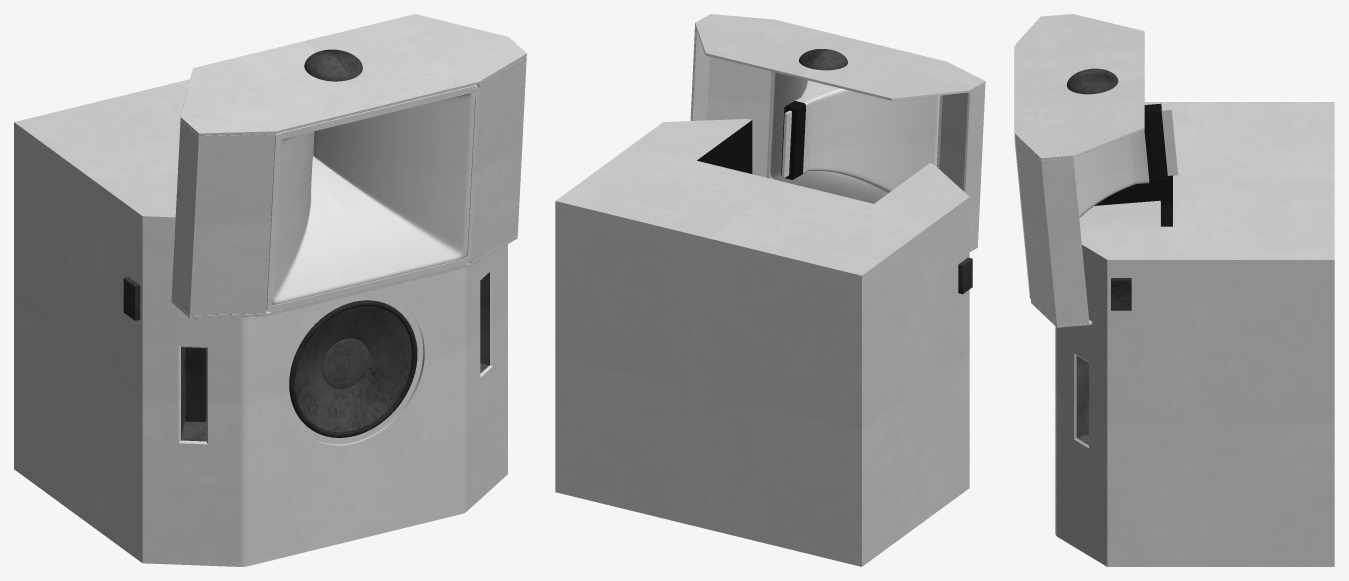
File: alloy-legacy.glb
The picture shows the model from 3 angles, left to right: view 1: azimuth 30°, elevation 25°; view 2: azimuth 150°, elevation 25°; view 3: azimuth 270°, elevation 25°; orthographic projection. The views are drawn at different scales.
Visible parts, largest first — view 1: Cabinet, Horn, Horn plate top, Horn flange L, Cone, Horn flange R, Horn frame, Horn return L, Surround, Dust cap, Driver cap, Horn plate bottom (+1 smaller); view 2: Cabinet, Horn, Horn plate top, Horn flange R, Horn return L, Horn flange L, Horn return R, Driver cap, Horn frame; view 3: Cabinet, Horn plate top, Horn return R, Horn, Horn flange R, Horn plate bottom, Driver cap, Phase plug, Bracket R.
Boxes of the visible parts, bbox=[...] form: Cabinet: bbox=[14, 79, 507, 566]; Horn: bbox=[271, 93, 475, 304]; Horn plate top: bbox=[180, 14, 526, 135]; Horn flange L: bbox=[190, 134, 275, 315]; Cone: bbox=[295, 306, 411, 432]; Horn flange R: bbox=[469, 56, 526, 263]; Horn frame: bbox=[266, 85, 479, 312]; Horn return L: bbox=[171, 120, 198, 315]; Surround: bbox=[289, 300, 417, 437]; Dust cap: bbox=[322, 338, 369, 388]; Driver cap: bbox=[304, 49, 362, 81]; Horn plate bottom: bbox=[171, 236, 517, 318]; Cabinet: bbox=[555, 119, 969, 566]; Horn: bbox=[769, 72, 939, 203]; Horn plate top: bbox=[695, 14, 985, 100]; Horn flange R: bbox=[707, 56, 771, 177]; Horn return L: bbox=[963, 84, 985, 249]; Horn flange L: bbox=[939, 92, 967, 190]; Horn return R: bbox=[690, 26, 709, 120]; Driver cap: bbox=[799, 49, 847, 70]; Horn frame: bbox=[766, 71, 942, 178]; Cabinet: bbox=[1055, 102, 1334, 566]; Horn plate top: bbox=[1014, 14, 1144, 160]; Horn return R: bbox=[1041, 158, 1089, 325]; Horn: bbox=[1073, 103, 1168, 217]; Horn flange R: bbox=[1015, 136, 1056, 324]; Horn plate bottom: bbox=[1031, 200, 1160, 327]; Driver cap: bbox=[1066, 68, 1118, 94]; Phase plug: bbox=[1161, 108, 1177, 175]; Bracket R: bbox=[1111, 278, 1131, 310].
Bounding box in the file's own units: 0.413 × 0.4917 × 0.3443.
Materials: 18 (17 with a texture image).
